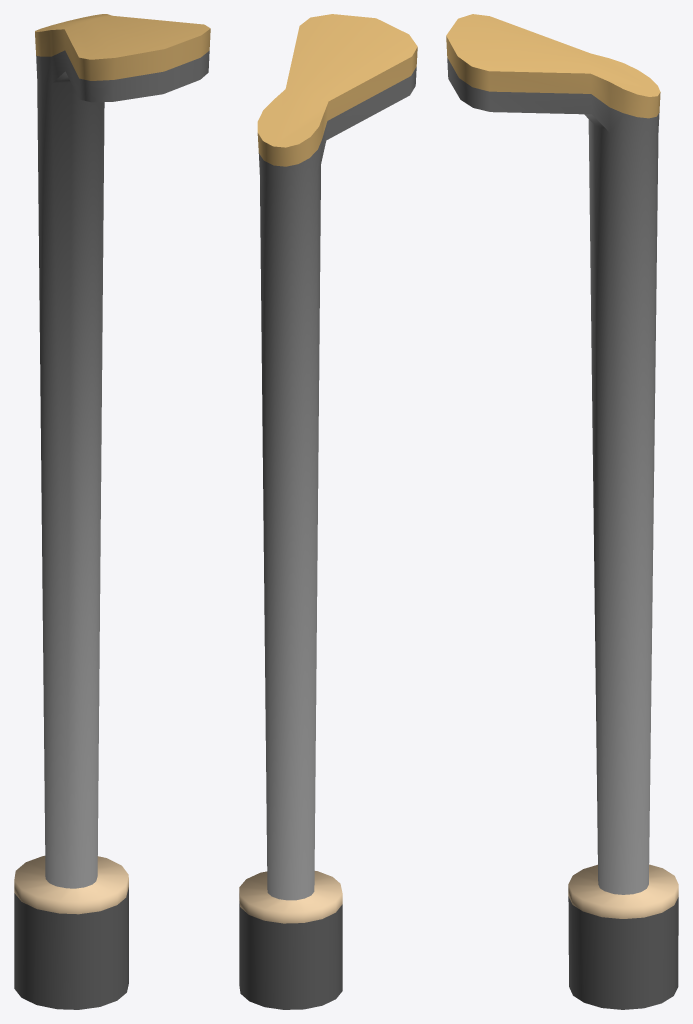
The model's file is StreetLightPost.fbx.
The picture shows the model from 3 angles, left to right: view 1: azimuth 30°, elevation 25°; view 2: azimuth 150°, elevation 25°; view 3: azimuth 270°, elevation 25°; orthographic projection. The views are drawn at different scales.
Parts seen in each view (by area): view 1: StreetLightPost; view 2: StreetLightPost; view 3: StreetLightPost.
Part boxes in pixels (box(x1,y1,x2,y2)): StreetLightPost: box(14, 14, 210, 1009); StreetLightPost: box(239, 14, 417, 1009); StreetLightPost: box(446, 14, 678, 1009).
Size of what is drawn, in the model's own units: 0.2864 by 0.4874 by 2.2.
